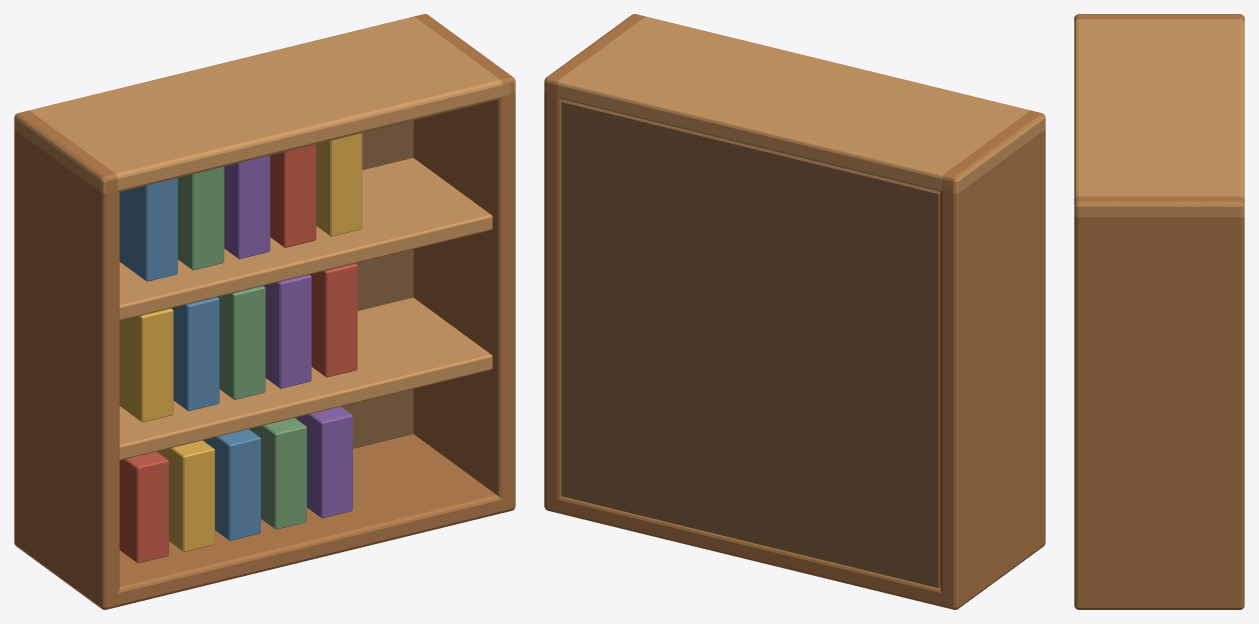
The model's file is mini_bookcase.glb.
3 renders of one model, left to right at view 1: azimuth 30°, elevation 25°; view 2: azimuth 150°, elevation 25°; view 3: azimuth 270°, elevation 25°, orthographic. The views are drawn at different scales.
Visible parts, largest first — view 1: side, top, side.001, bottom, shelf, shelf.001, back, book.005, book.010, book, book.006, book.007 (+10 smaller); view 2: back, side, top, side.001, bottom; view 3: side.001, top, bottom, side.
Part boxes in pixels (<box>): side: <box>14,110,119,609</box>; top: <box>14,16,515,193</box>; side.001: <box>413,14,515,512</box>; bottom: <box>14,434,515,609</box>; shelf: <box>119,297,492,460</box>; shelf.001: <box>119,158,492,320</box>; back: <box>341,120,413,448</box>; book.005: <box>119,308,173,422</box>; book.010: <box>119,178,177,281</box>; book: <box>119,451,168,563</box>; book.006: <box>171,297,219,411</box>; book.007: <box>217,286,265,399</box>; back: <box>561,100,940,588</box>; side: <box>940,110,1045,609</box>; top: <box>544,16,1045,193</box>; side.001: <box>544,14,645,512</box>; bottom: <box>544,496,1045,609</box>; side.001: <box>1074,196,1244,609</box>; top: <box>1074,19,1244,217</box>; bottom: <box>1074,596,1244,609</box>; side: <box>1074,14,1244,21</box>.
Size of the model in its own units: 0.9 by 0.9 by 0.34.
